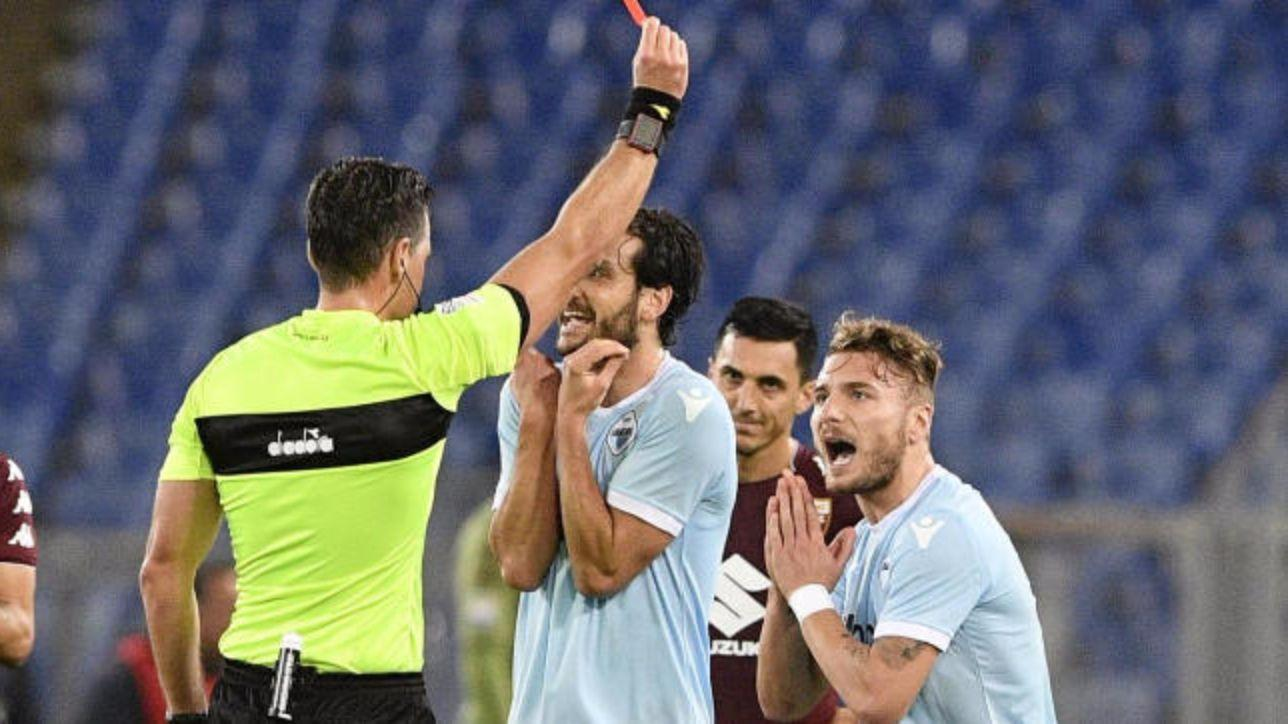red_card: (604, 1, 703, 99)
